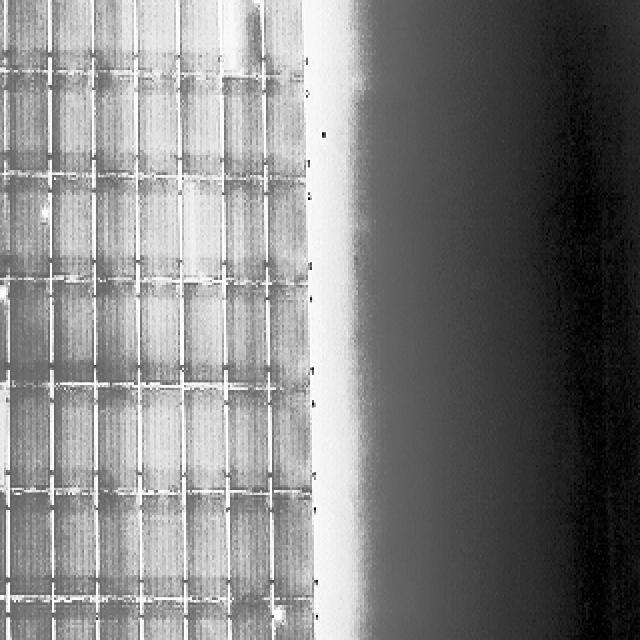Hotspots: (272, 604, 288, 626), (36, 203, 50, 222), (0, 278, 10, 302)
PV-modules: (51, 277, 101, 384), (180, 80, 230, 182), (7, 75, 55, 180), (6, 494, 52, 602), (270, 494, 315, 604), (221, 280, 267, 387), (216, 80, 263, 184), (223, 388, 269, 494), (226, 494, 270, 604), (6, 280, 50, 388), (136, 176, 181, 281), (137, 387, 181, 494), (268, 283, 312, 390), (138, 496, 182, 603), (97, 385, 141, 492), (136, 279, 180, 385), (266, 178, 310, 284), (94, 496, 138, 602), (89, 172, 133, 278), (188, 495, 231, 603), (93, 71, 138, 174), (50, 175, 95, 278), (10, 386, 54, 491), (184, 387, 228, 492), (52, 386, 96, 491), (55, 495, 98, 602), (96, 279, 140, 383), (182, 178, 226, 282), (6, 176, 50, 280), (225, 177, 268, 283), (270, 390, 314, 493), (184, 283, 226, 389), (136, 76, 179, 178), (49, 74, 92, 176), (264, 77, 306, 181), (258, 0, 306, 75), (0, 0, 50, 70), (220, 0, 264, 76), (133, 0, 178, 74), (177, 0, 222, 74), (89, 0, 134, 72), (2, 0, 48, 69), (48, 0, 92, 70), (6, 597, 52, 640), (272, 597, 316, 640), (138, 600, 182, 640), (226, 602, 272, 640), (92, 602, 138, 640), (54, 602, 98, 640), (186, 605, 230, 640), (0, 492, 10, 602), (0, 382, 10, 490), (0, 278, 8, 382), (0, 68, 8, 170), (0, 170, 6, 275), (0, 0, 6, 68), (0, 600, 8, 640)
